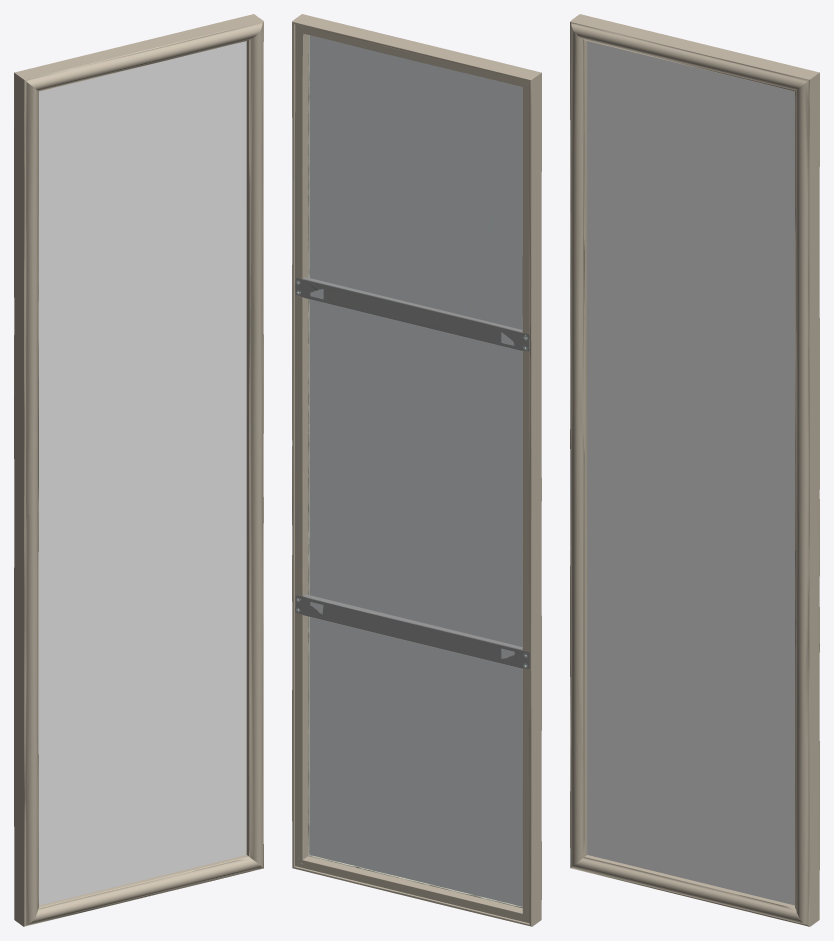
Rendered from nyponbuske_lustro_00609880.glb.
The picture shows the model from 3 angles, left to right: view 1: azimuth 30°, elevation 25°; view 2: azimuth 150°, elevation 25°; view 3: azimuth 330°, elevation 25°; orthographic projection.
Visible parts, largest first — view 1: nyponbuske_lustro_00609880; view 2: nyponbuske_lustro_00609880; view 3: nyponbuske_lustro_00609880.
Boxes of the visible parts, <box> form: nyponbuske_lustro_00609880: <box>14,14,263,926</box>; nyponbuske_lustro_00609880: <box>292,14,541,926</box>; nyponbuske_lustro_00609880: <box>570,14,819,926</box>.
Bounding box in the file's own units: 0.4001 × 1.35 × 0.0375.
2 materials, 2 textured.
